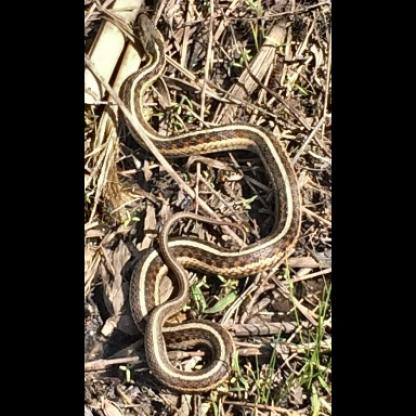Snake: (119, 5, 302, 394)
